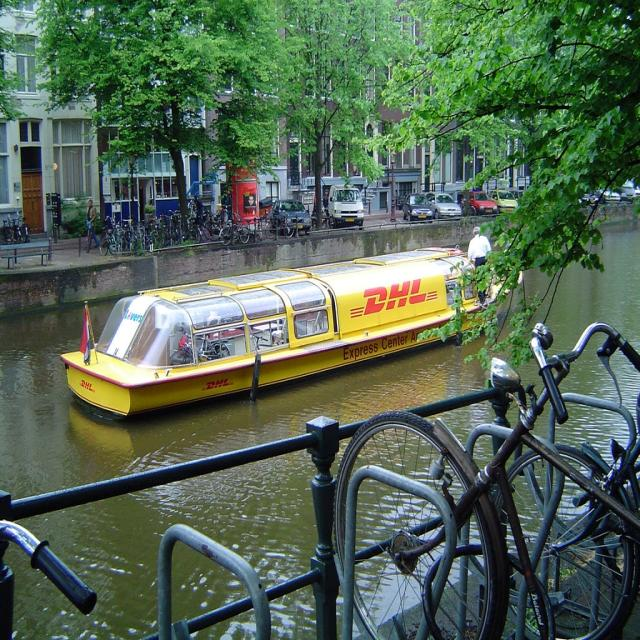dhl: (347, 270, 443, 324), (201, 380, 236, 392), (78, 380, 95, 395)
